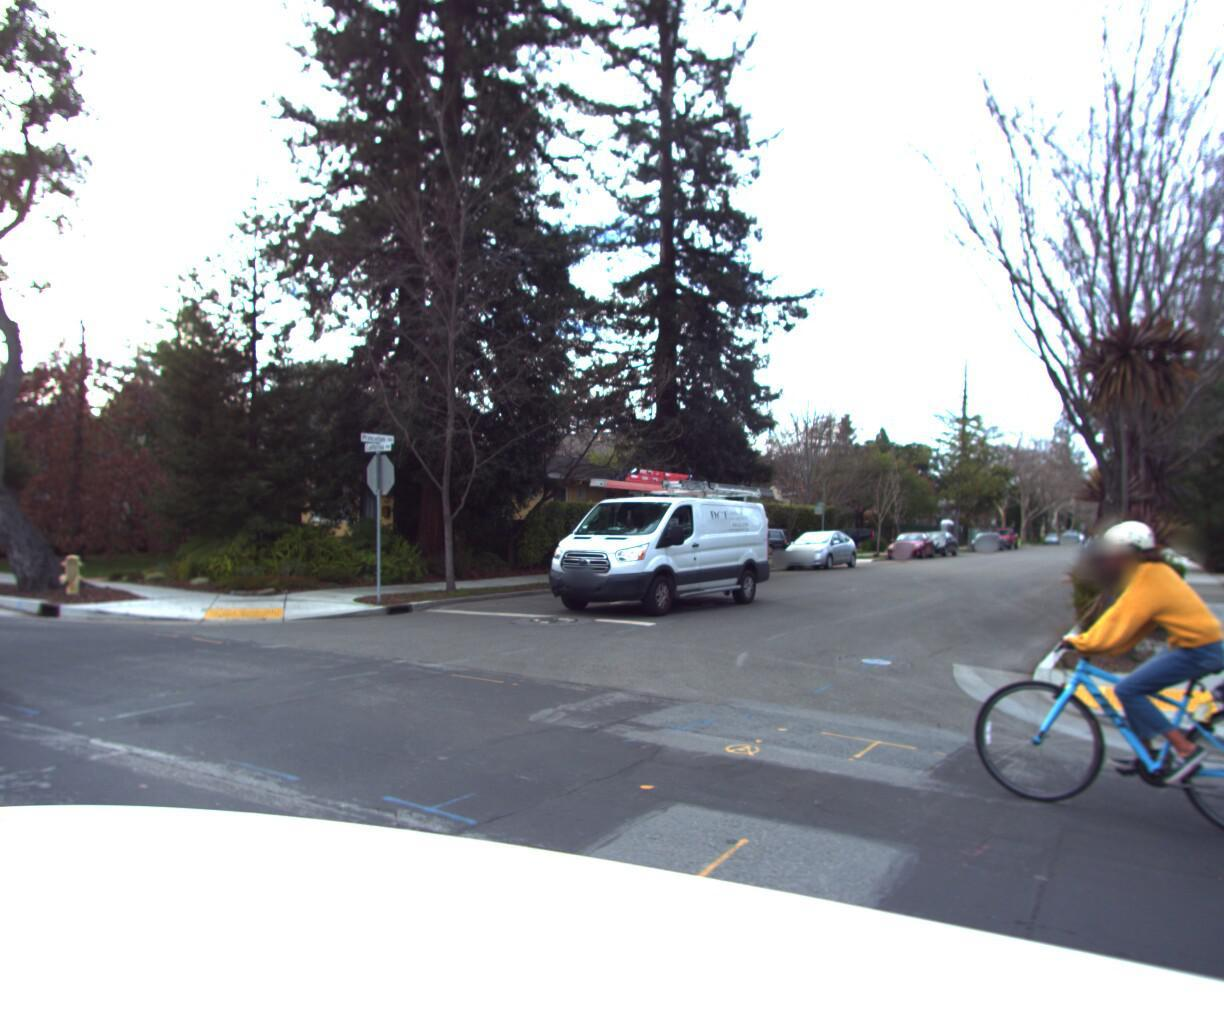bicycle: (973, 500, 1224, 879)
car: (518, 451, 784, 622), (773, 529, 860, 573), (880, 530, 938, 561), (907, 531, 957, 556), (0, 432, 3, 741), (967, 532, 1003, 552)
